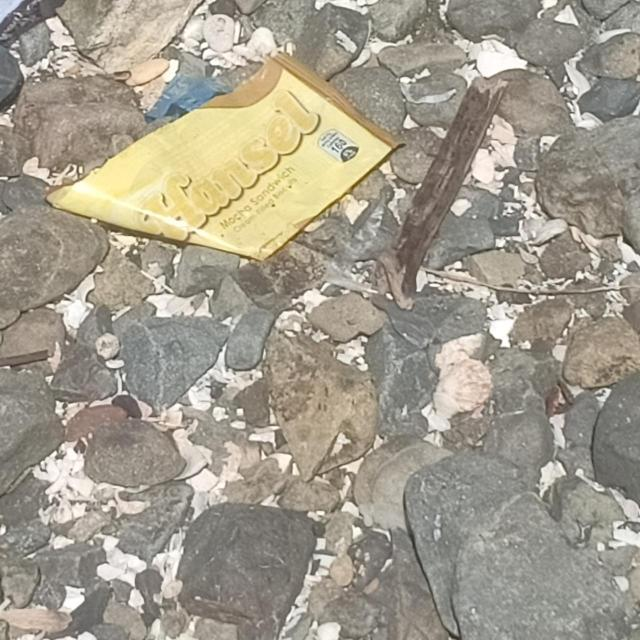plastic_waste: (45, 51, 409, 262)
